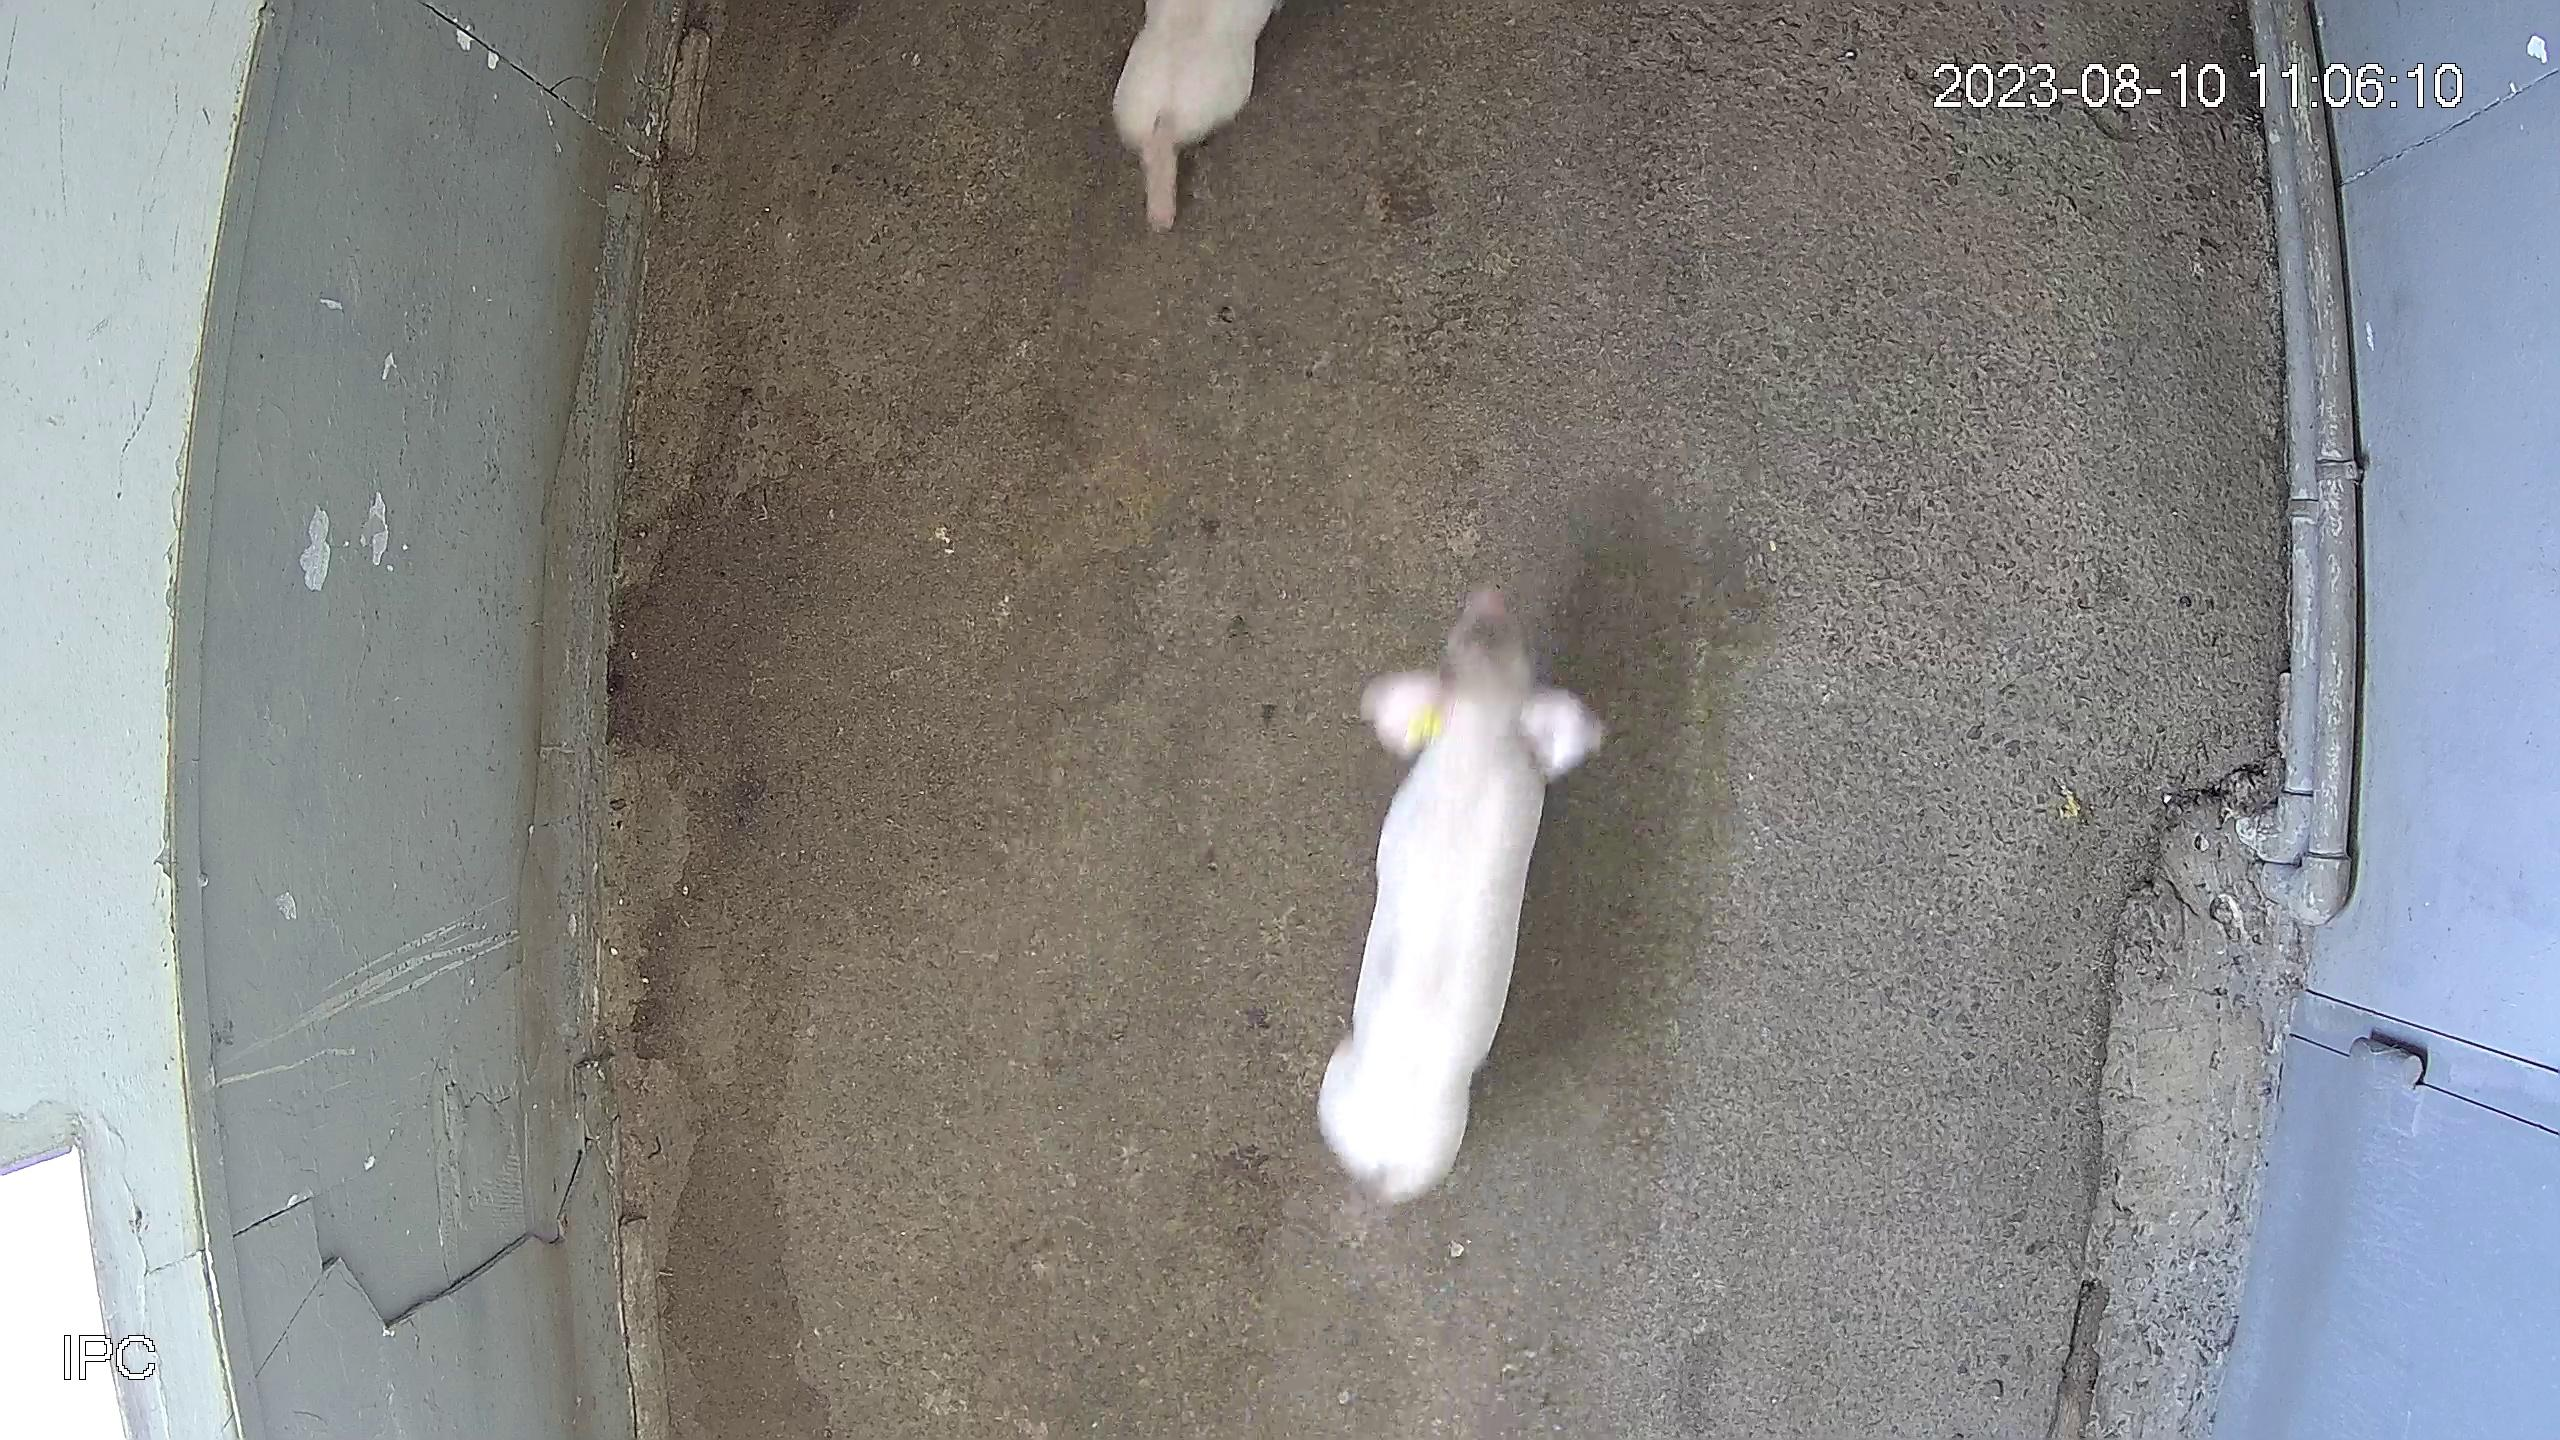Pig: (1319, 587, 1605, 1203), (1111, 0, 1278, 227)
